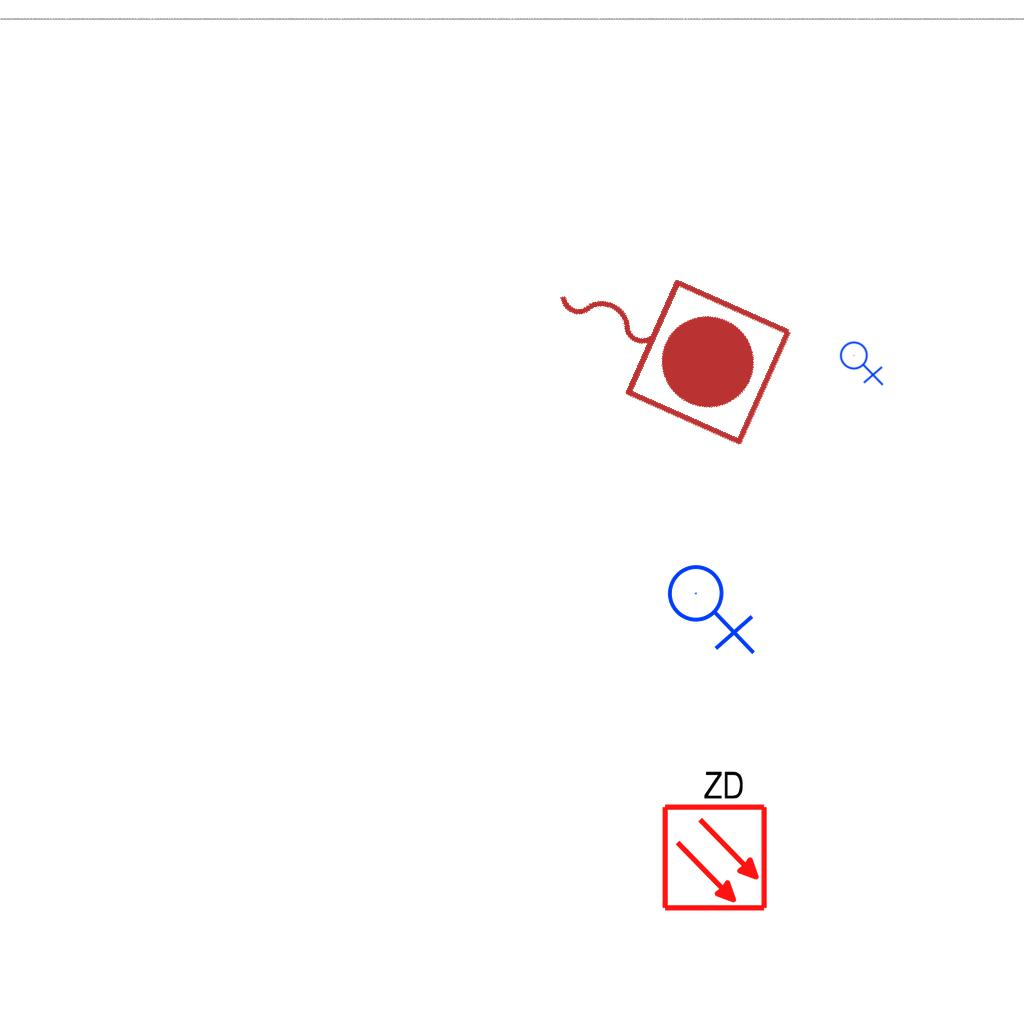Elektroanschluss_allgemein_230V_Geraeteanschlussdose_230V: (666, 556, 760, 655), (839, 337, 886, 386)
ZD_Melder_in_Zwischendecke_mit_Revisionsoeffnung_mind_40_x_40_cm: (656, 764, 770, 913)
Zugtaster: (522, 224, 804, 456)
